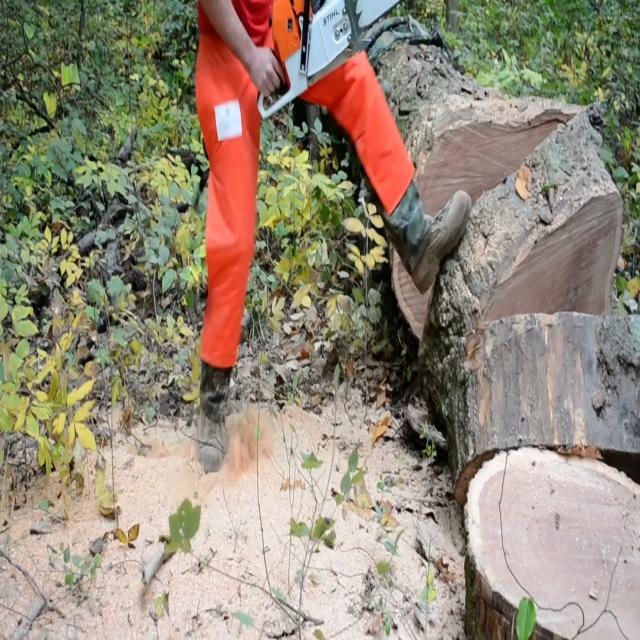Chainsaw: (236, 0, 422, 119)
